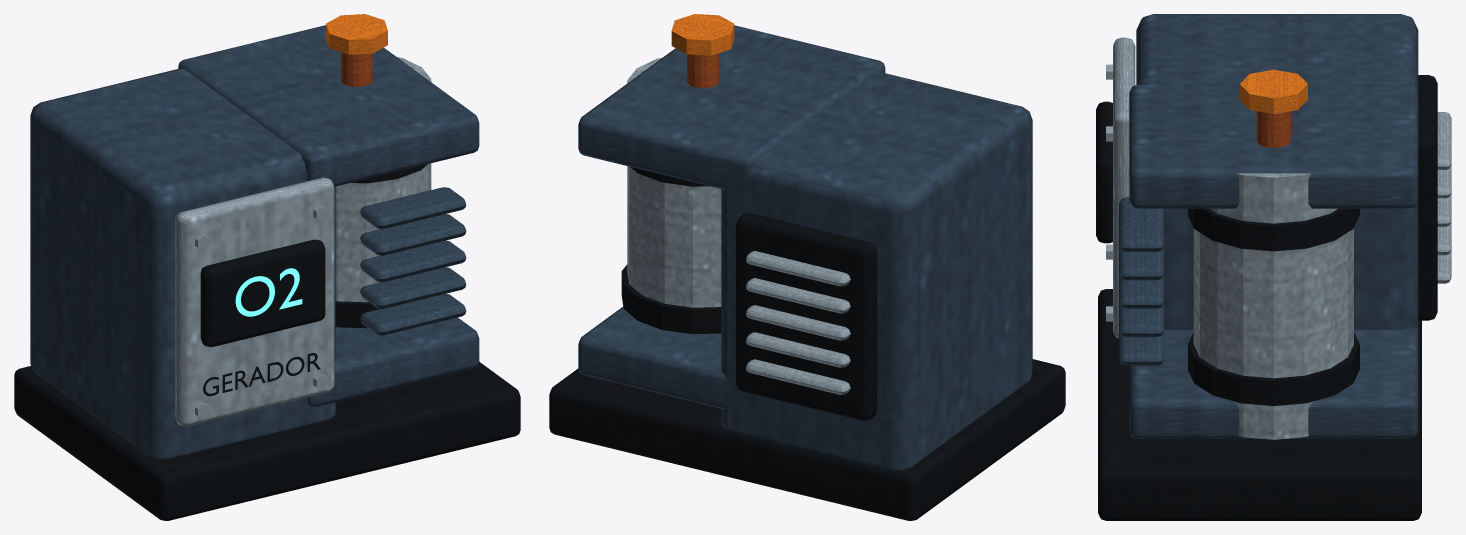
Rendered from gerador-oxigenio.glb.
3 views of the same model, side by side, from view 1: azimuth 30°, elevation 25°; view 2: azimuth 150°, elevation 25°; view 3: azimuth 270°, elevation 25° (orthographic). The views are drawn at different scales.
Parts seen in each view (by area): view 1: Aleta de ventilação.005, Anel da câmara.002, Câmara pressurizada.001, Válvula.001, O2.001, Linha de oxigênio.001; view 2: Aleta de ventilação.005, Anel da câmara.002, Câmara pressurizada.001, Válvula.001, Linha de oxigênio.001; view 3: Aleta de ventilação.005, Anel da câmara.002, Câmara pressurizada.001, Válvula.001, Linha de oxigênio.001.
Part boxes in pixels (<box>): Aleta de ventilação.005: <box>30,25,479,459</box>; Anel da câmara.002: <box>14,164,520,520</box>; Câmara pressurizada.001: <box>175,57,431,426</box>; Válvula.001: <box>326,14,387,54</box>; O2.001: <box>235,268,302,316</box>; Linha de oxigênio.001: <box>341,52,372,86</box>; Aleta de ventilação.005: <box>578,25,1032,470</box>; Anel da câmara.002: <box>549,167,1065,520</box>; Câmara pressurizada.001: <box>627,57,850,394</box>; Válvula.001: <box>671,14,734,55</box>; Linha de oxigênio.001: <box>687,53,718,88</box>; Aleta de ventilação.005: <box>1119,14,1418,438</box>; Anel da câmara.002: <box>1096,75,1437,520</box>; Câmara pressurizada.001: <box>1106,37,1451,439</box>; Válvula.001: <box>1239,69,1307,114</box>; Linha de oxigênio.001: <box>1256,111,1290,147</box>.
Size of the model in its own units: 1.28 by 1.26 by 1.02.
Materials: 6 (5 with a texture image).
